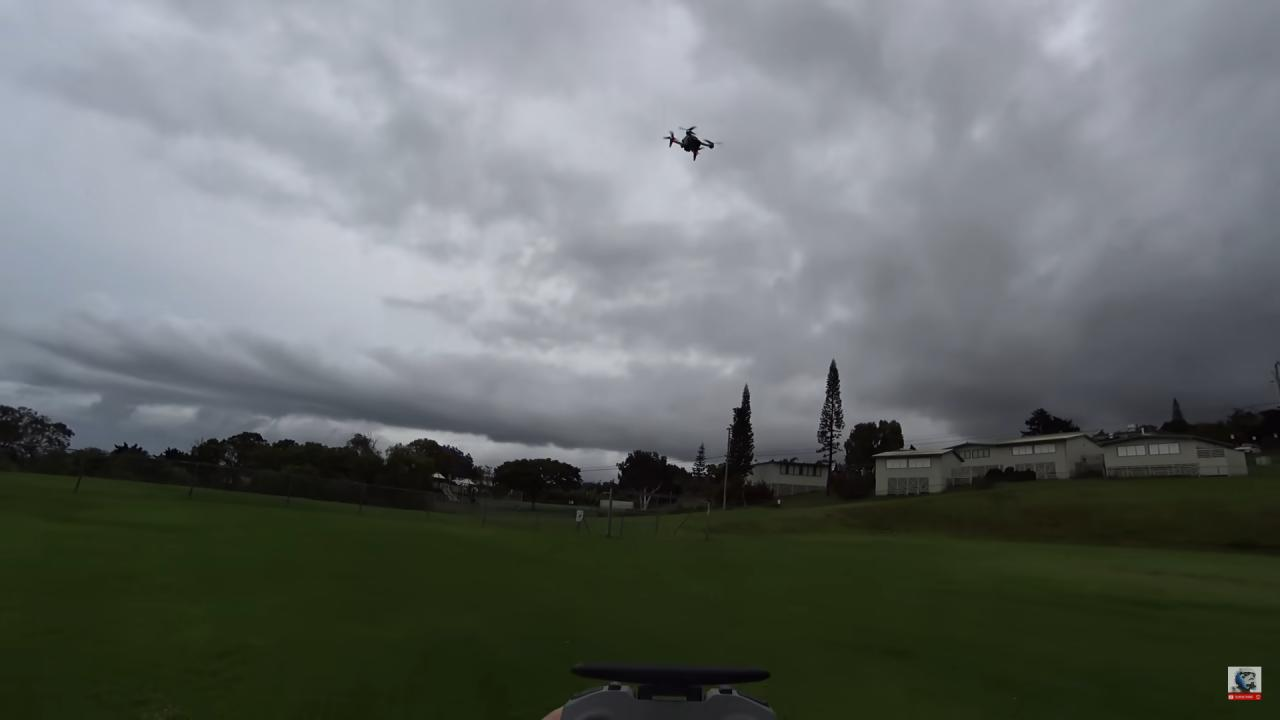Drone: (647, 114, 733, 175)
